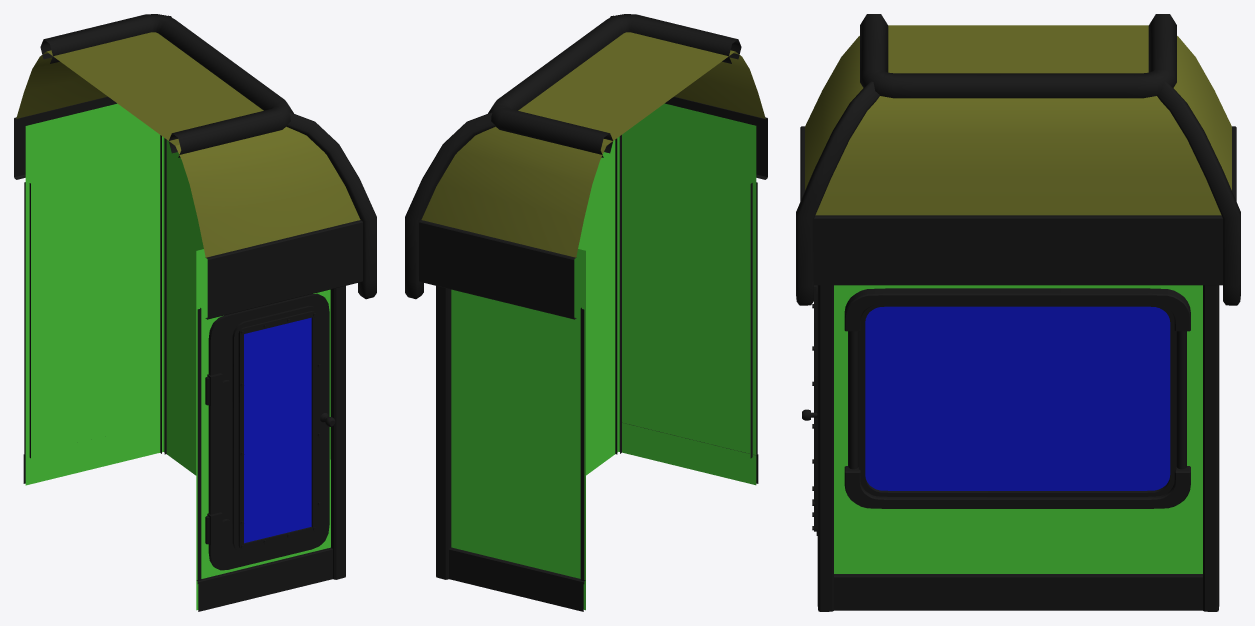
The model's file is Kioste_Droite_Metal_01.FBX.
The picture shows the model from 3 angles, left to right: view 1: azimuth 30°, elevation 25°; view 2: azimuth 150°, elevation 25°; view 3: azimuth 270°, elevation 25°; orthographic projection. The views are drawn at different scales.
Visible parts, largest first — view 1: Kioste_Droite_Metal_01_LOD0; view 2: Kioste_Droite_Metal_01_LOD0; view 3: Kioste_Droite_Metal_01_LOD0.
Boxes of the visible parts, left/top/right/bottom form: Kioste_Droite_Metal_01_LOD0: left=14, top=14, right=376, bottom=611; Kioste_Droite_Metal_01_LOD0: left=405, top=14, right=767, bottom=611; Kioste_Droite_Metal_01_LOD0: left=796, top=14, right=1240, bottom=611.
Bounding box in the file's own units: 196 × 511 × 398.
